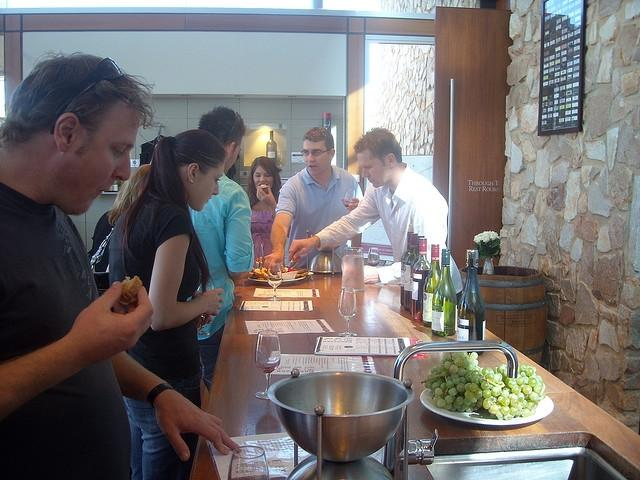grape: (528, 391, 538, 401), (464, 390, 474, 400), (483, 398, 493, 407), (444, 395, 454, 404), (524, 368, 534, 377), (508, 393, 518, 402), (502, 396, 511, 406), (491, 387, 501, 396), (449, 364, 458, 374), (510, 398, 519, 407), (500, 406, 510, 414), (437, 398, 445, 408), (494, 373, 501, 384), (454, 358, 463, 366), (446, 380, 454, 389), (508, 380, 516, 389), (444, 361, 453, 369), (498, 364, 506, 373), (520, 364, 528, 373), (504, 412, 513, 420), (500, 390, 510, 397), (435, 388, 443, 396), (464, 398, 472, 406), (516, 378, 524, 386), (464, 382, 472, 390), (466, 362, 474, 370), (466, 405, 474, 413), (472, 370, 481, 377), (452, 352, 461, 359), (470, 352, 478, 359), (482, 368, 489, 376), (487, 367, 495, 374), (479, 376, 486, 384), (459, 377, 466, 385), (530, 366, 537, 374), (489, 406, 496, 414), (516, 408, 523, 415), (537, 382, 543, 388), (476, 382, 482, 388), (498, 396, 503, 403), (452, 396, 456, 403), (518, 367, 522, 374), (438, 368, 442, 374), (428, 374, 433, 378)
